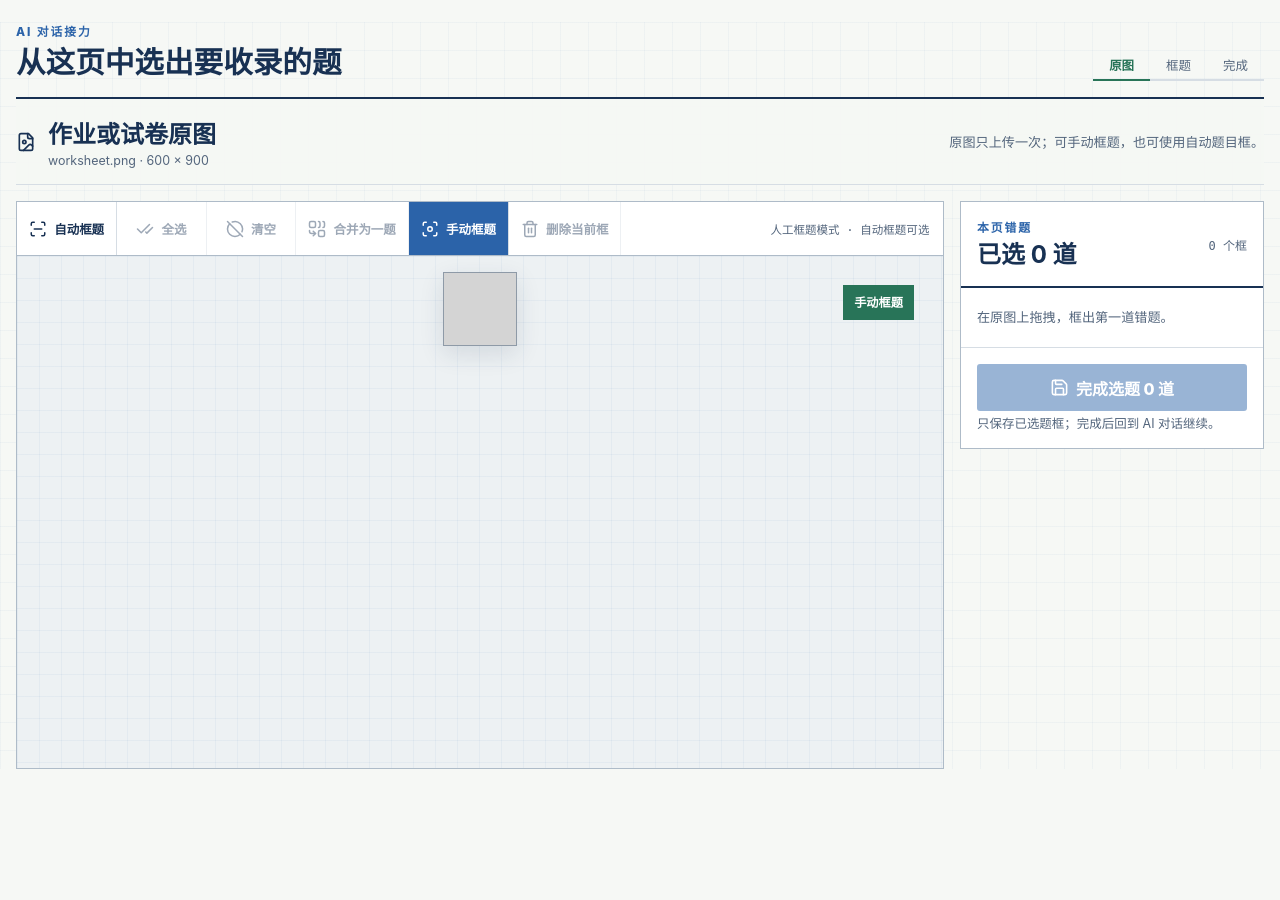
ProblemIntake multi-region workflow › lets an existing-asset handoff explicitly request automatic boxes
The width and height of the screenshot is (1280, 900).
Click the button "自动框题": (67, 229) [17,202,117,255]
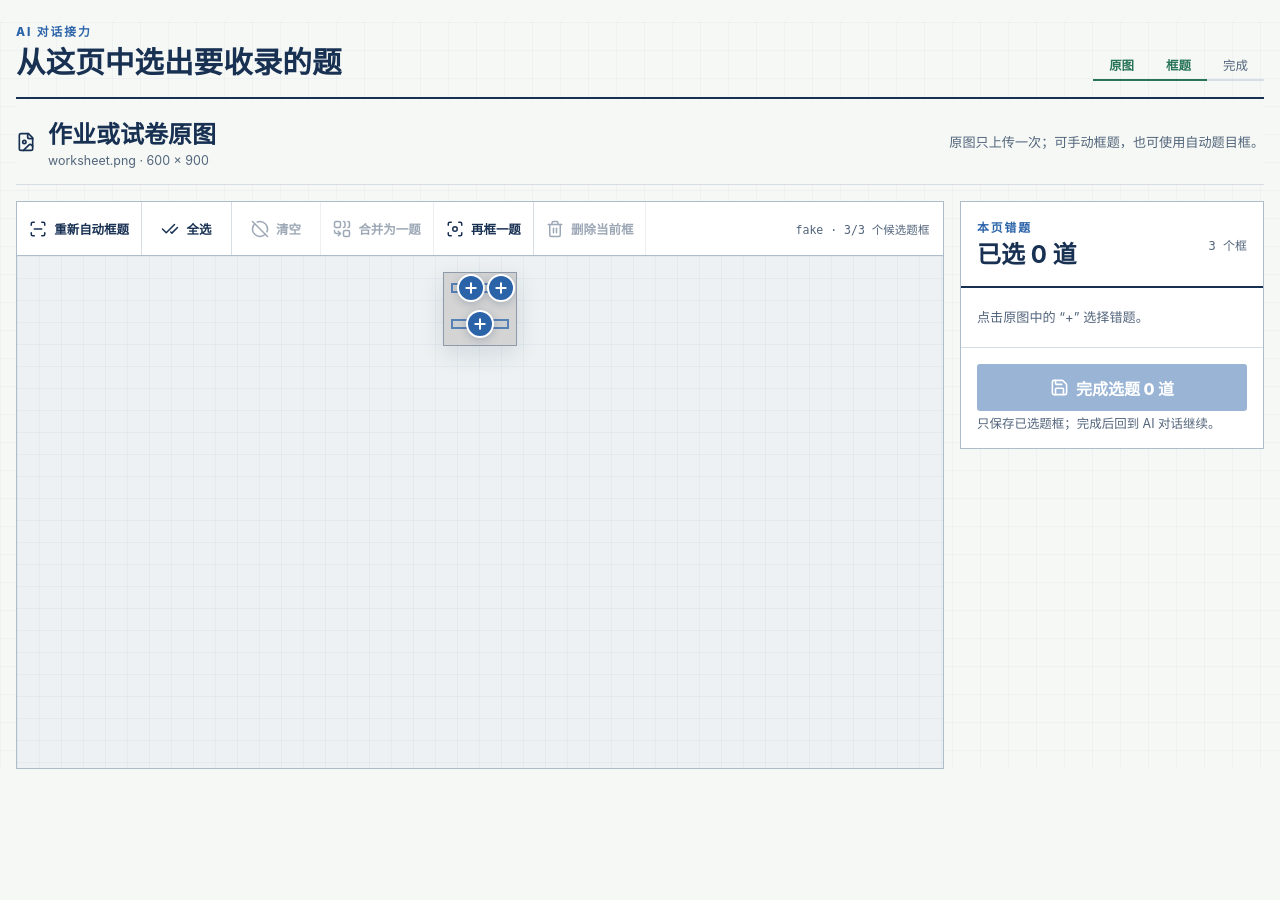
Result: the text "fake · 3/3 个候选题框" is shown at [796,223,929,237]
